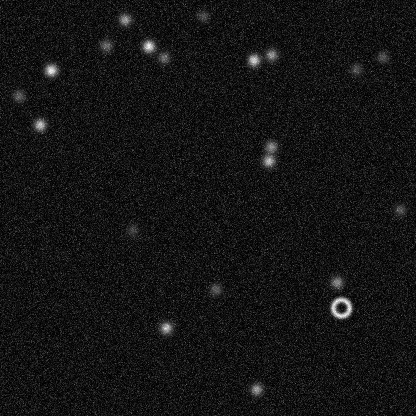Ring: (329, 295, 353, 319)
Spot: (347, 61, 363, 77), (124, 222, 140, 238), (207, 281, 223, 297), (140, 38, 156, 54), (42, 62, 58, 78), (98, 37, 114, 53), (262, 138, 278, 154), (116, 11, 132, 27), (31, 116, 47, 132), (263, 46, 279, 62), (260, 152, 276, 168), (328, 274, 344, 290), (374, 49, 390, 65), (248, 381, 264, 397), (10, 87, 26, 103), (155, 49, 171, 65), (194, 7, 210, 23), (245, 52, 261, 68), (391, 201, 407, 217), (157, 319, 173, 335)
